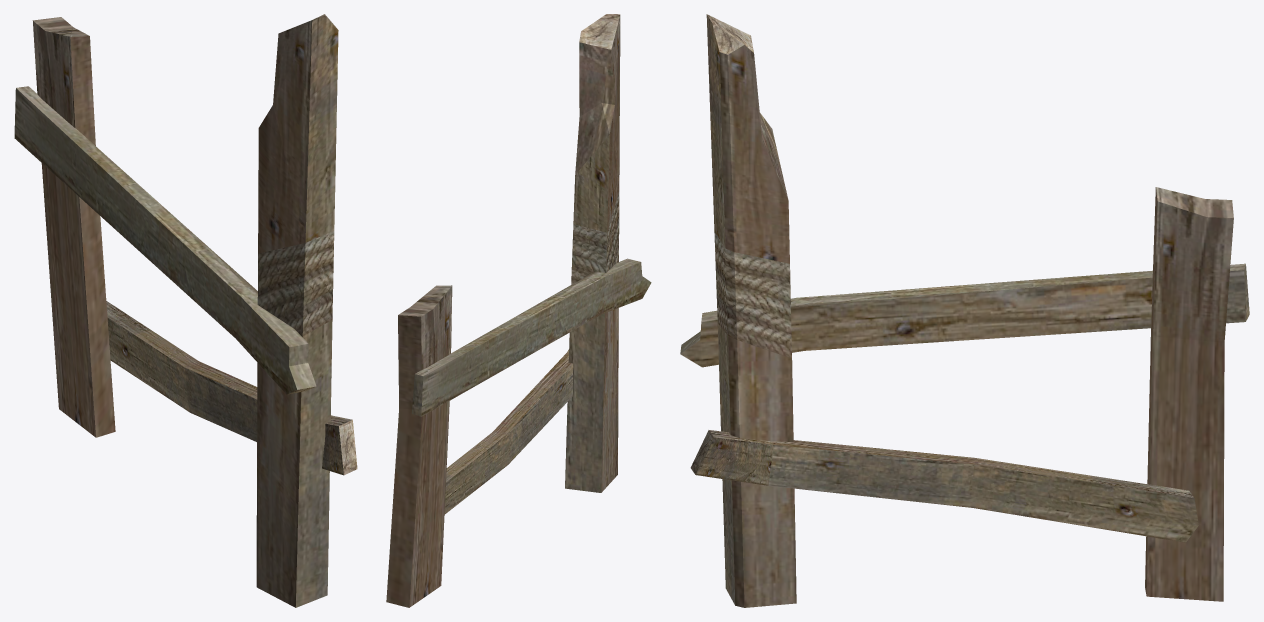
Rendered from bg_atm_loghill_woodfence01_sm_old.FBX.
3 renders of one model, left to right at view 1: azimuth 30°, elevation 25°; view 2: azimuth 150°, elevation 25°; view 3: azimuth 270°, elevation 25°, orthographic. The views are drawn at different scales.
Parts seen in each view (by area): view 1: bg_atm_loghill_woodfence01_sm_old; view 2: bg_atm_loghill_woodfence01_sm_old; view 3: bg_atm_loghill_woodfence01_sm_old.
Boxes of the visible parts, x1,y1,x2,y2 form: bg_atm_loghill_woodfence01_sm_old: (14,14,357,607); bg_atm_loghill_woodfence01_sm_old: (386,14,651,607); bg_atm_loghill_woodfence01_sm_old: (680,14,1249,607).
Bounding box in the file's own units: 31.2 × 231 × 206.
